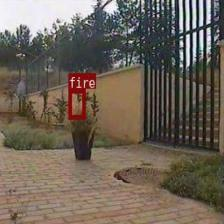fire: (68, 88, 85, 118)
